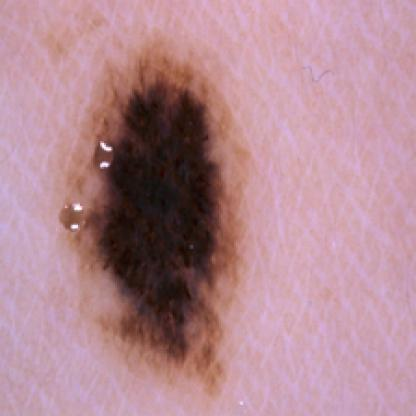benign: (67, 52, 245, 358)
